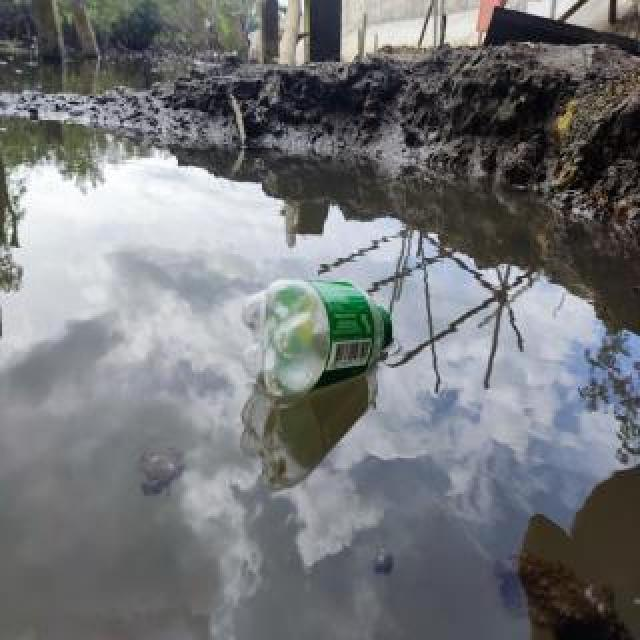bottle: (235, 272, 393, 402)
